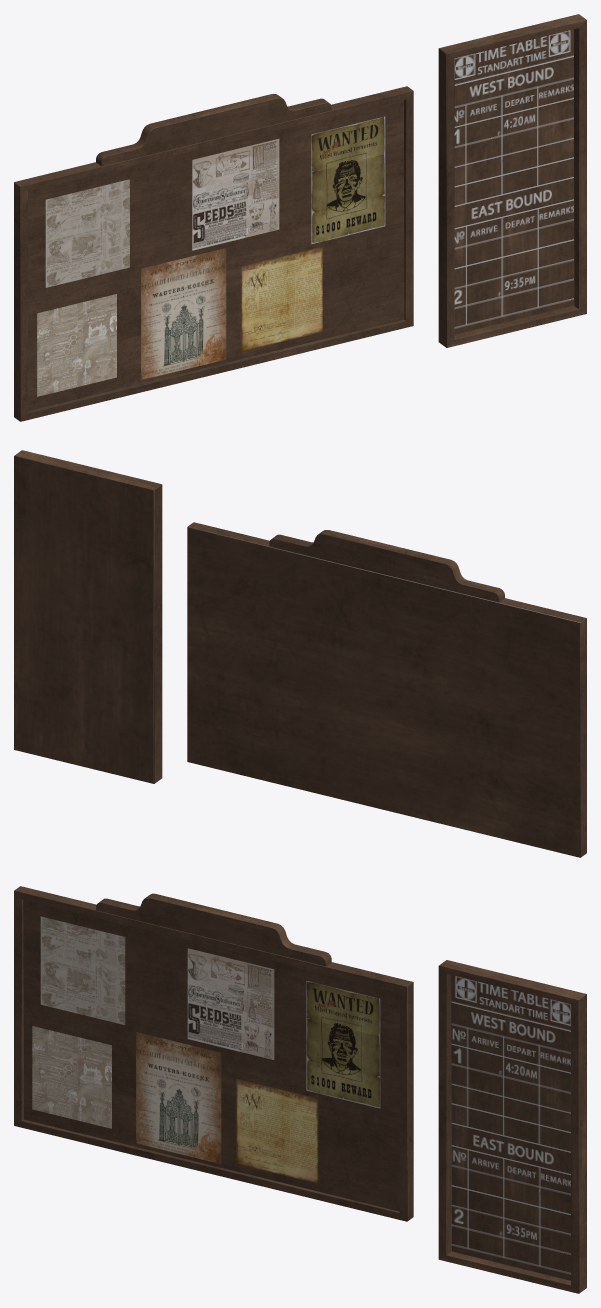
File: Notice_board.fbx
The picture shows the model from 3 angles, top to bottom: view 1: azimuth 30°, elevation 25°; view 2: azimuth 150°, elevation 25°; view 3: azimuth 330°, elevation 25°; orthographic projection.
Visible parts, largest first — view 1: Notice_board, Train_schedule, Ad_wauters, Ad_wanted, Ad_seeds, Ad_strollers, Ad_document, Ad_nozhnitsy; view 2: Notice_board, Train_schedule; view 3: Notice_board, Train_schedule, Ad_wauters, Ad_wanted, Ad_seeds, Ad_strollers, Ad_document, Ad_nozhnitsy.
Part boxes in pixels (bbox=[...]): Notice_board: bbox=[14, 86, 413, 421]; Train_schedule: bbox=[438, 14, 586, 347]; Ad_wauters: bbox=[141, 248, 226, 380]; Ad_wanted: bbox=[311, 116, 385, 244]; Ad_seeds: bbox=[192, 139, 279, 250]; Ad_strollers: bbox=[45, 179, 129, 287]; Ad_document: bbox=[241, 246, 322, 351]; Ad_nozhnitsy: bbox=[37, 294, 116, 396]; Notice_board: bbox=[187, 522, 586, 857]; Train_schedule: bbox=[14, 450, 162, 783]; Notice_board: bbox=[14, 886, 413, 1221]; Train_schedule: bbox=[438, 960, 586, 1293]; Ad_wauters: bbox=[136, 1032, 221, 1163]; Ad_wanted: bbox=[306, 980, 380, 1108]; Ad_seeds: bbox=[187, 948, 274, 1059]; Ad_strollers: bbox=[40, 916, 125, 1024]; Ad_document: bbox=[236, 1079, 318, 1183]; Ad_nozhnitsy: bbox=[32, 1026, 111, 1128].
Size of the model in its own units: 201 by 100 by 5.
